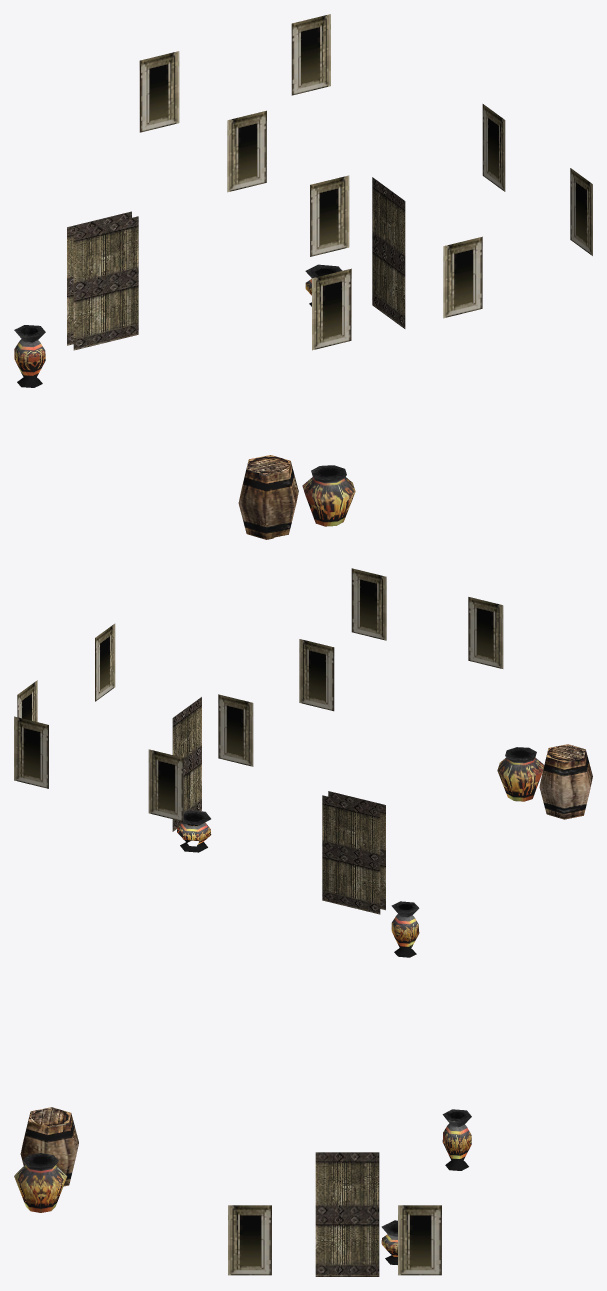
Rendered from hele_house_b_props.dae.
3 renders of one model, top to bottom at view 1: azimuth 30°, elevation 25°; view 2: azimuth 150°, elevation 25°; view 3: azimuth 270°, elevation 25°, orthographic. The views are drawn at different scales.
Parts seen in each view (by area): view 1: Object1042; view 2: Object1042; view 3: Object1042.
Part boxes in pixels (x1,y1,x2,y2): Object1042: [14, 14, 592, 539]; Object1042: [14, 568, 592, 957]; Object1042: [14, 1107, 471, 1276].
Bounding box in the file's own units: 13.82 × 6.58 × 15.59.
